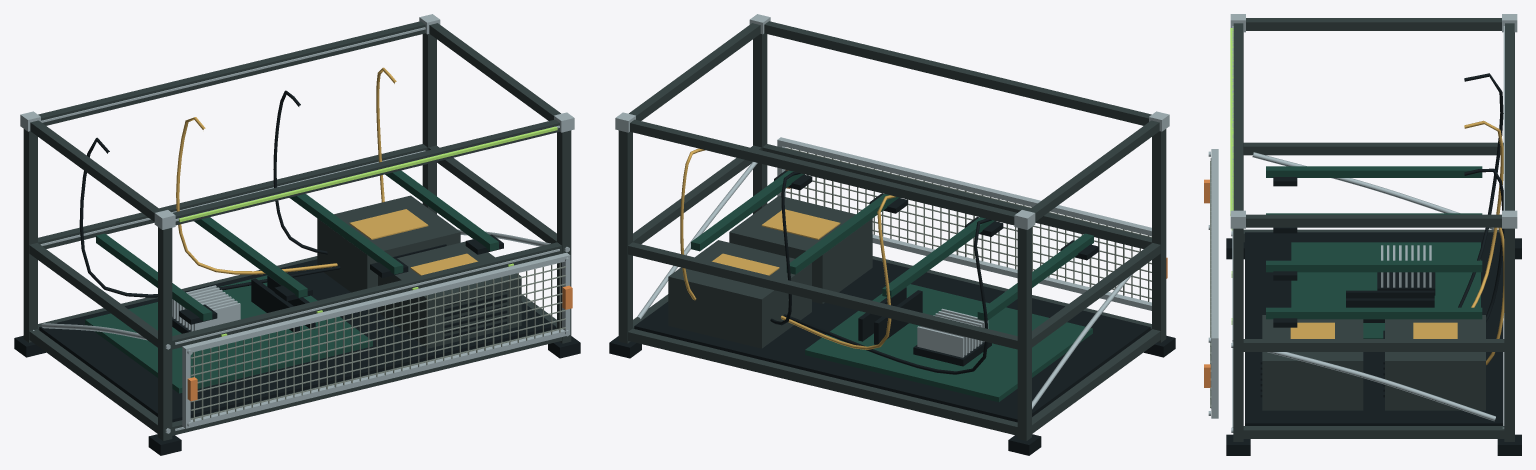
File: rig-4-frame-filtered.glb
3 renders of one model, left to right at view 1: azimuth 30°, elevation 25°; view 2: azimuth 150°, elevation 25°; view 3: azimuth 270°, elevation 25°, orthographic.
Visible parts, largest first — view 1: Anodized graphite, Rubber and ABS, Circuit board, Brushed aluminium (×2), Filter fibres, Contacts, rig-4-frame-filtered, slot-cable-1, slot-cable-2, slot-cable-3; view 2: Anodized graphite, Rubber and ABS, Circuit board, Brushed aluminium (×2), Filter fibres, Contacts, slot-cable-1, slot-cable-2, slot-cable-3, slot-cable-4; view 3: Anodized graphite, Rubber and ABS, Circuit board, Brushed aluminium (×2), Contacts, slot-cable-1, slot-cable-2, rig-4-frame-filtered, slot-cable-3, Filter fibres, slot-cable-4.
Boxes of the visible parts, x1,y1,x2,y2 form: Anodized graphite: (23, 21, 571, 440); Rubber and ABS: (14, 234, 580, 455); Circuit board: (85, 170, 498, 393); Brushed aluminium (×2): (20, 14, 574, 433); Filter fibres: (190, 263, 565, 421); Contacts: (349, 209, 477, 275); rig-4-frame-filtered: (178, 126, 557, 222); slot-cable-1: (79, 137, 340, 297); slot-cable-2: (176, 117, 337, 274); slot-cable-3: (273, 90, 327, 254); Anodized graphite: (618, 21, 1166, 440); Rubber and ABS: (609, 170, 1175, 455); Circuit board: (691, 170, 1093, 402); Brushed aluminium (×2): (615, 14, 1169, 409); Filter fibres: (785, 147, 1151, 301); Contacts: (712, 209, 840, 275); slot-cable-1: (783, 218, 991, 374); slot-cable-2: (780, 195, 895, 349); slot-cable-3: (770, 172, 800, 325); slot-cable-4: (680, 148, 704, 300); Anodized graphite: (1233, 18, 1514, 441); Rubber and ABS: (1226, 177, 1521, 455); Circuit board: (1266, 166, 1482, 338); Brushed aluminium (×2): (1211, 14, 1517, 432); Contacts: (1290, 322, 1457, 338); slot-cable-1: (1458, 73, 1503, 307); slot-cable-2: (1464, 120, 1503, 307); rig-4-frame-filtered: (1230, 28, 1233, 215); slot-cable-3: (1464, 168, 1504, 321); Filter fibres: (1210, 158, 1211, 408); slot-cable-4: (1486, 227, 1504, 365).
Size of the model in its own units: 6.06 by 3.24 by 3.94.
